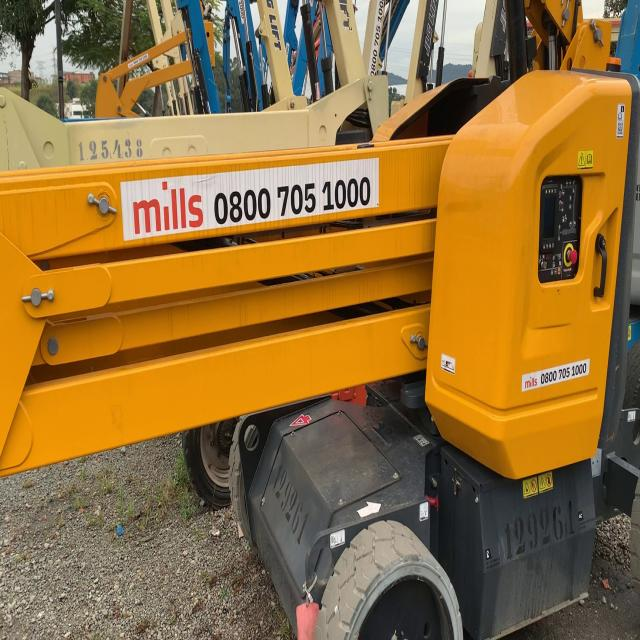Adesivo Longo: (119, 156, 380, 242), (521, 356, 590, 394)
